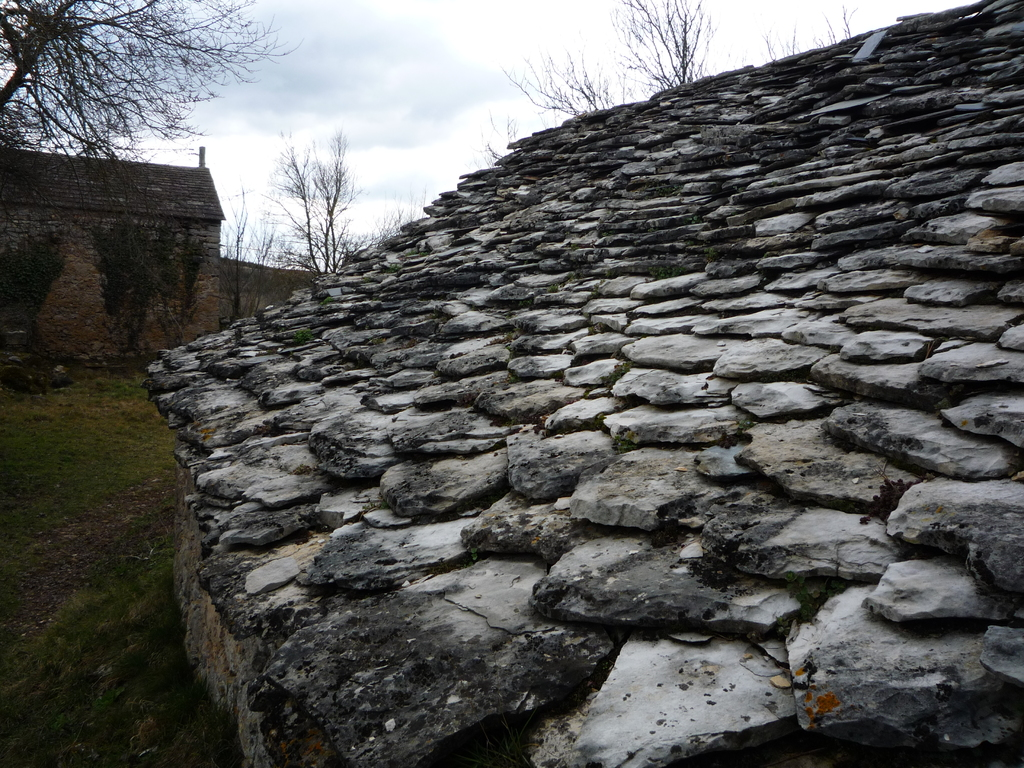Tree: (0, 0, 307, 156), (248, 117, 384, 275), (609, 0, 714, 104), (498, 43, 614, 119), (734, 0, 856, 65), (218, 182, 257, 264), (377, 182, 426, 243), (474, 113, 523, 166)
